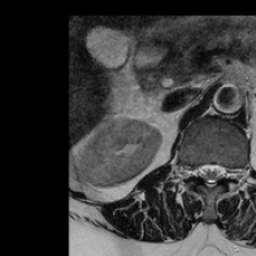CCS_normal: (207, 158, 215, 193)
LFS_normal: (224, 161, 235, 186)
LLS_normal: (215, 158, 224, 185)
RFS_normal: (187, 158, 197, 185)
RLS_normal: (197, 158, 207, 185)
